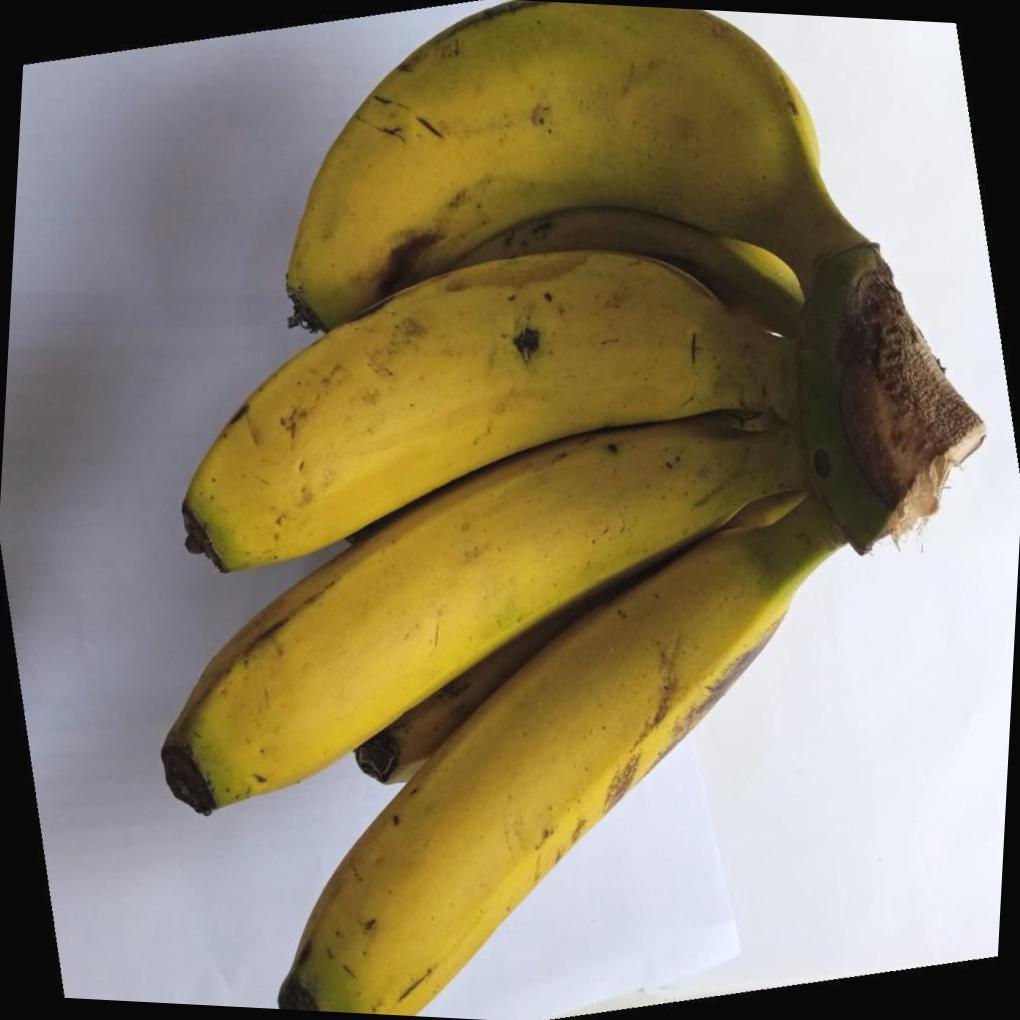Banana Ripe: (136, 0, 992, 1020), (151, 340, 914, 1020), (162, 220, 826, 578)
